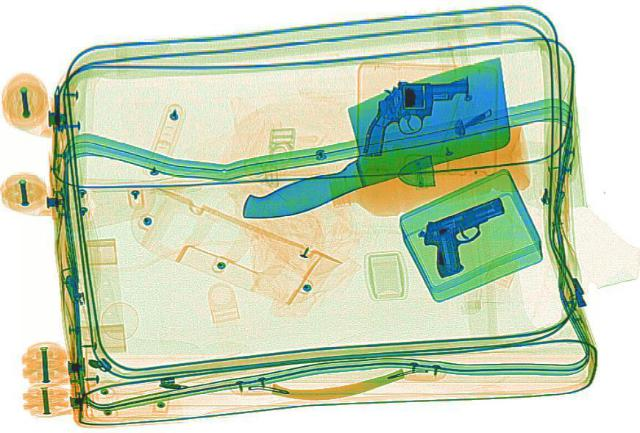Gun: (359, 64, 469, 159), (409, 193, 531, 276)
Knife: (198, 36, 562, 255)
